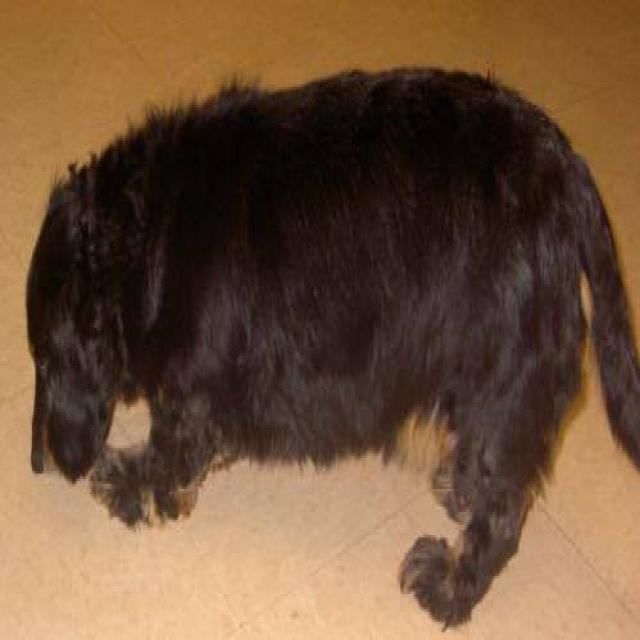dog: (24, 61, 639, 630)
